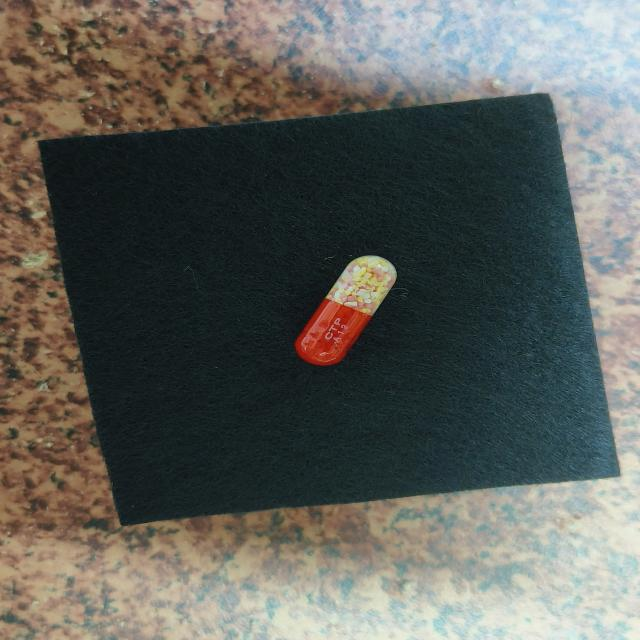Intact Capsule: (295, 256, 397, 366)
